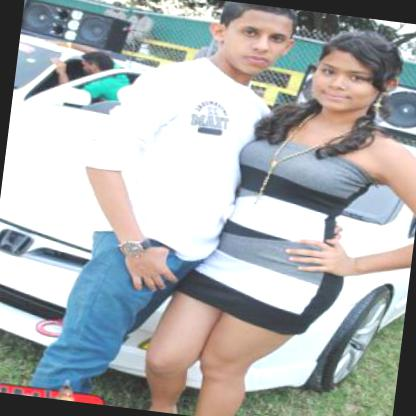car: (0, 63, 415, 415), (6, 34, 162, 172)
